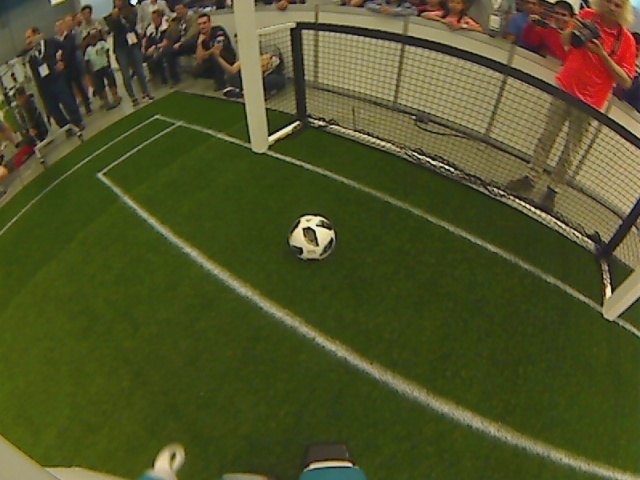ball: (286, 213, 337, 260)
